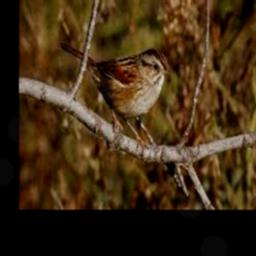Sparrow: (60, 43, 171, 157)
